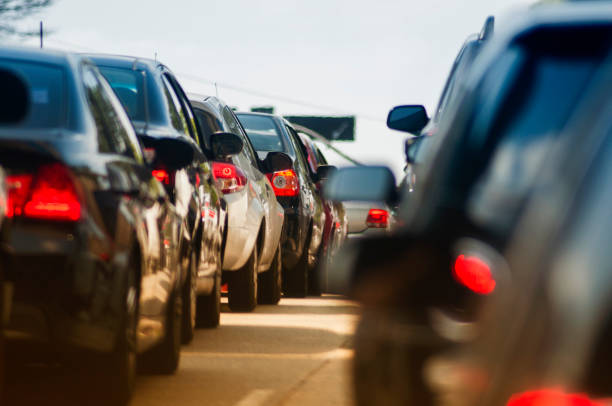car: (1, 60, 179, 392), (187, 96, 284, 307), (249, 110, 330, 281)
